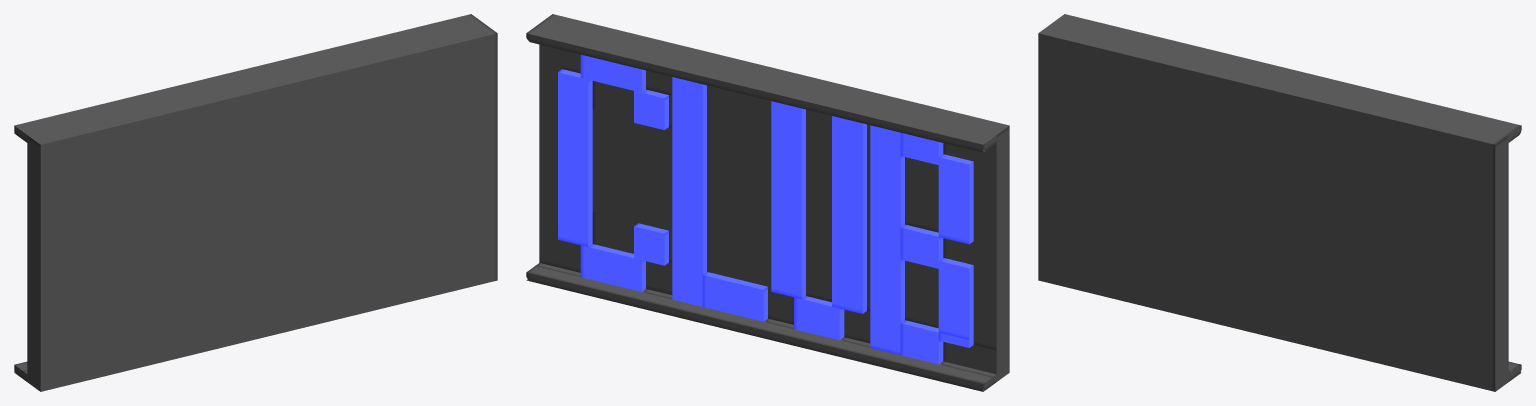
File: neon5.dae
3 views of the same model, side by side, from view 1: azimuth 30°, elevation 25°; view 2: azimuth 150°, elevation 25°; view 3: azimuth 330°, elevation 25° (orthographic).
Visible parts, largest first — view 1: Content; view 2: Content; view 3: Content.
Boxes of the visible parts, box(x1,y1,x2,y2) form: Content: box(14, 14, 497, 391); Content: box(526, 14, 1009, 391); Content: box(1038, 14, 1521, 391).
Bounding box in the file's own units: 60 × 31 × 6.
Materials: 1 (1 with a texture image).
